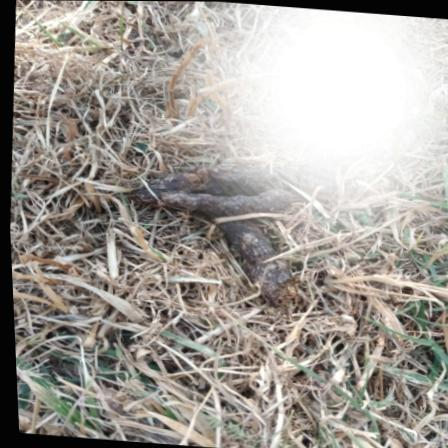dog-poop: (136, 155, 314, 305)
